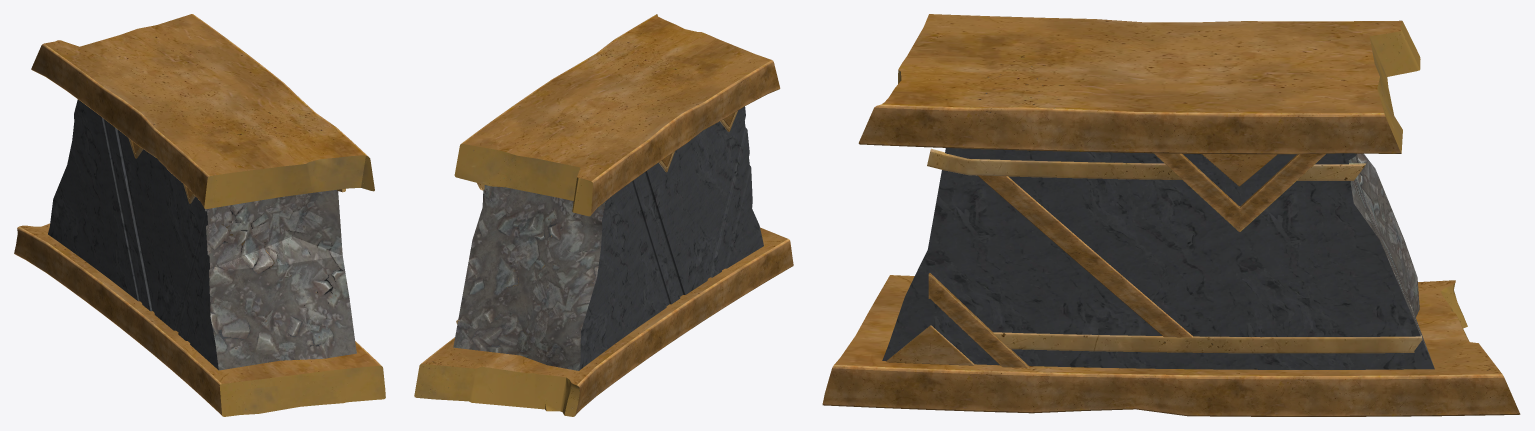
The picture shows the model from 3 angles, left to right: view 1: azimuth 30°, elevation 25°; view 2: azimuth 150°, elevation 25°; view 3: azimuth 270°, elevation 25°; orthographic projection. The views are drawn at different scales.
Parts seen in each view (by area): view 1: SM_Kuldras_Arena_RingPiece_05_LOD0; view 2: SM_Kuldras_Arena_RingPiece_05_LOD0; view 3: SM_Kuldras_Arena_RingPiece_05_LOD0.
Part boxes in pixels (x1,y1,x2,y2): SM_Kuldras_Arena_RingPiece_05_LOD0: [14, 14, 385, 416]; SM_Kuldras_Arena_RingPiece_05_LOD0: [414, 14, 793, 416]; SM_Kuldras_Arena_RingPiece_05_LOD0: [822, 14, 1520, 416].
Bounding box in the file's own units: 8.49 × 11.4 × 23.75.
4 materials, 4 textured.
